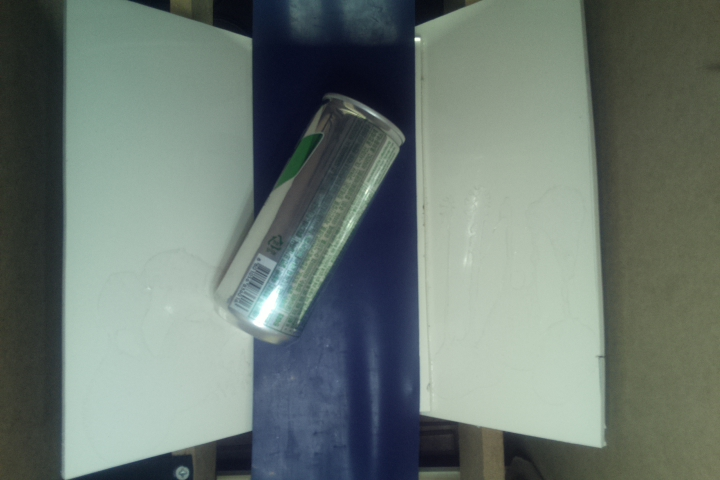can: (211, 88, 409, 346)
